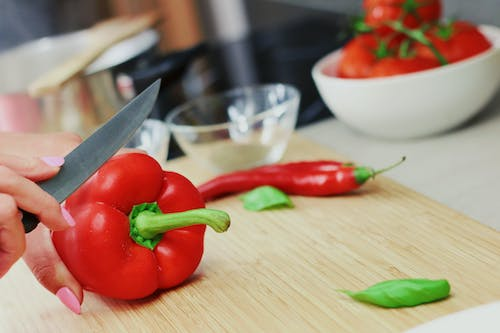knife: (35, 77, 162, 204)
